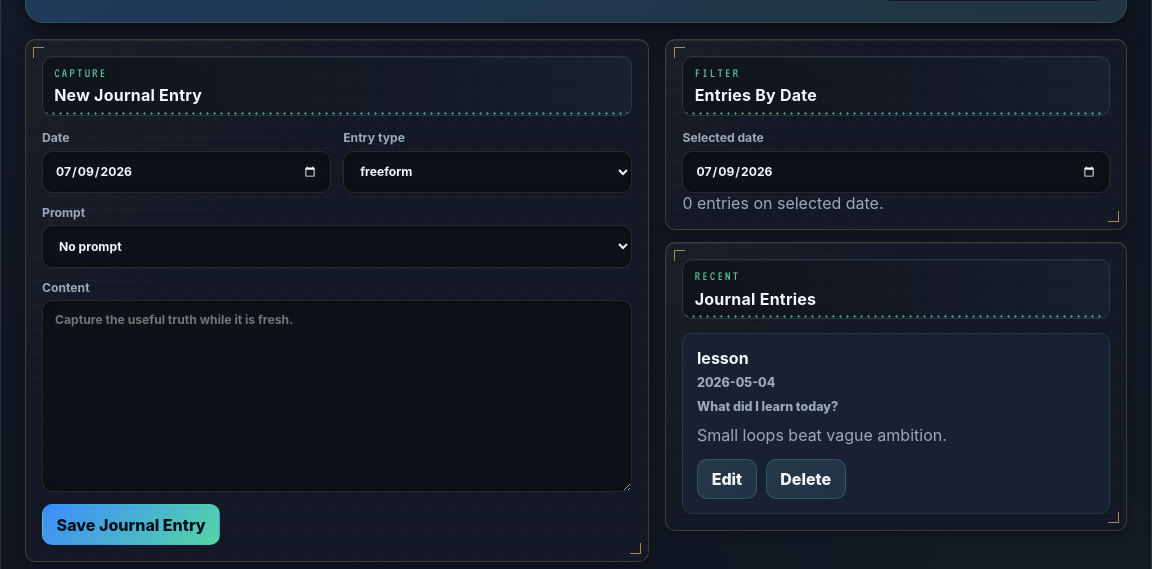
Scenario: Journal › deletes an entry after confirmation
The image size is (1152, 569).
(page scrolled)
Expected: the text "Small loops beat vague ambition." is shown, [697,425,947,445]
Step 1. Click the button "Delete" → (806, 479), box [766,459,846,499]
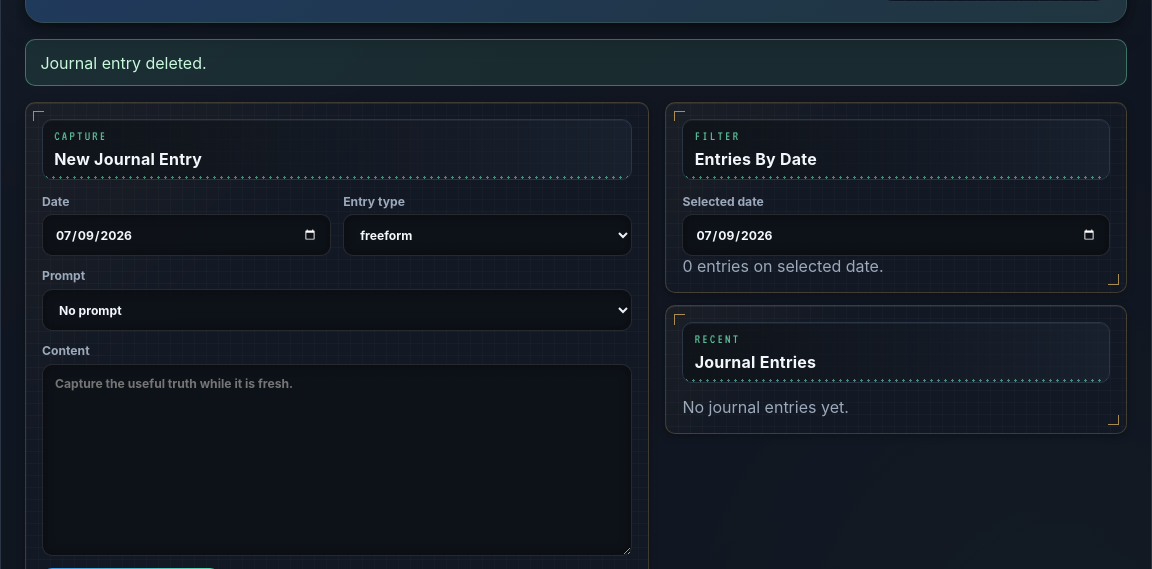
Now the text "Journal entry deleted." is shown, box [25,39,1127,86]
Now the text "Small loops beat vague ambition." is gone
